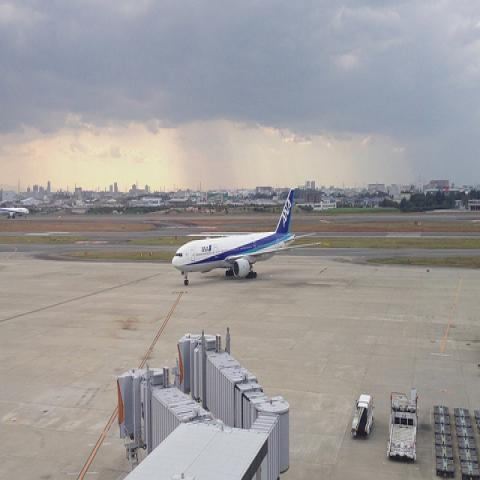truck: (383, 384, 420, 457), (351, 395, 374, 436)
